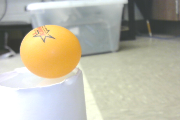PingPongBall: (21, 25, 81, 78)
